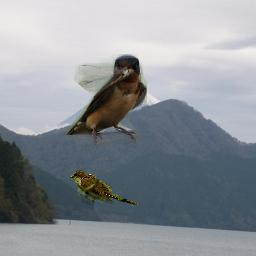Cuckoo: (69, 170, 138, 206)
Swallow: (65, 54, 147, 147)
